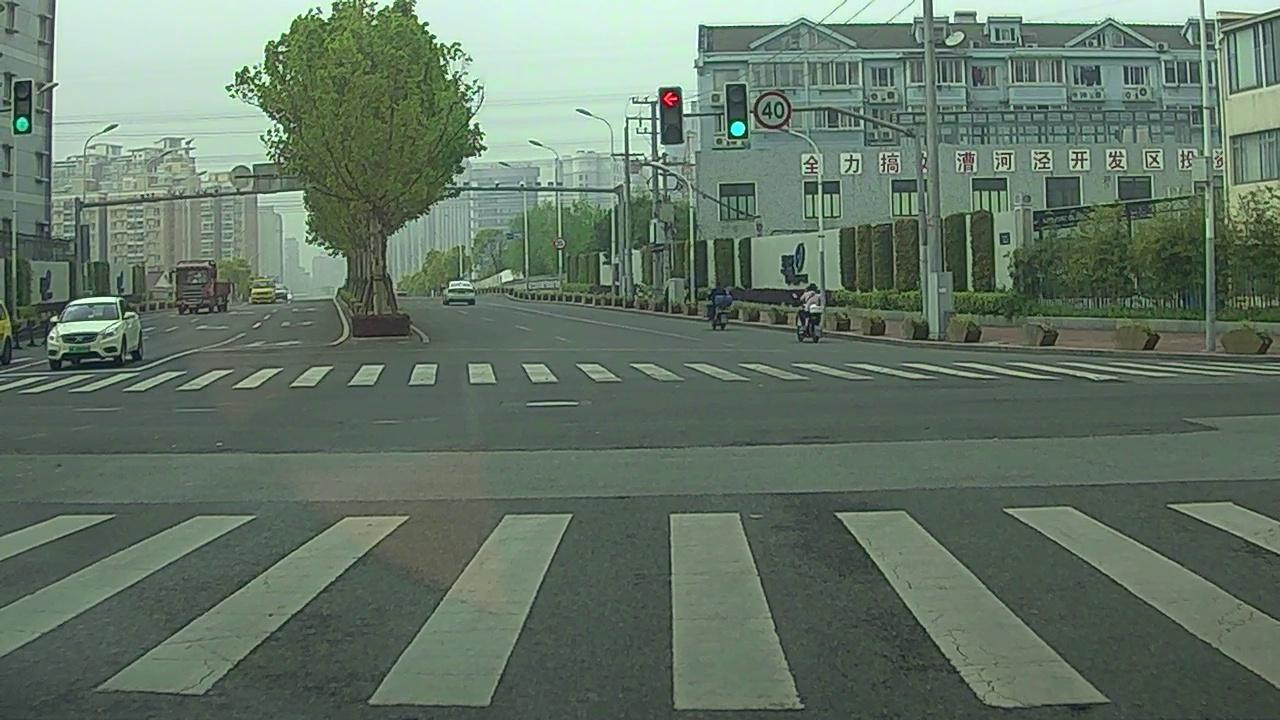traffic_light: (657, 90, 684, 144), (728, 84, 749, 139), (14, 81, 33, 133)
